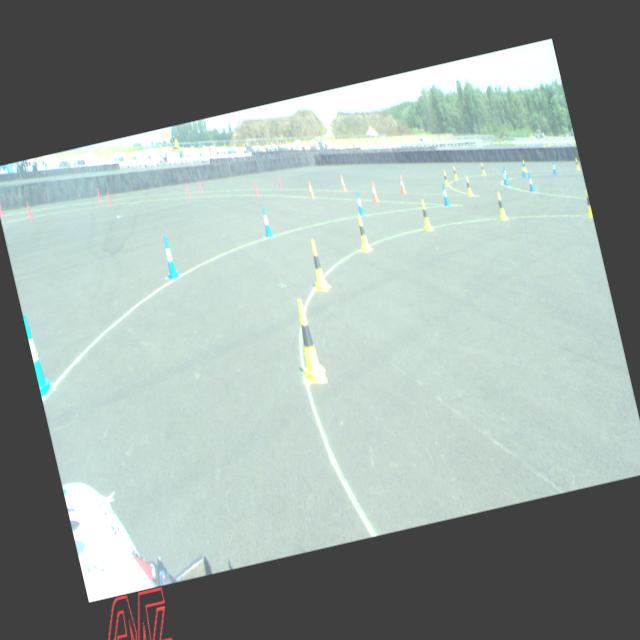blue_cone: (22, 312, 54, 396), (158, 233, 179, 280), (259, 205, 273, 238), (354, 190, 364, 216), (440, 182, 450, 206), (526, 172, 534, 192), (501, 169, 508, 186), (502, 164, 508, 180), (550, 160, 556, 174), (520, 162, 526, 176)
orange_cone: (369, 180, 379, 202), (397, 174, 406, 194), (306, 180, 315, 200), (338, 173, 346, 191)
yellow_cone: (288, 296, 327, 384), (305, 238, 329, 292), (354, 212, 371, 252), (417, 198, 432, 231), (494, 191, 508, 221), (582, 188, 592, 216), (463, 176, 473, 196), (572, 156, 580, 170), (451, 164, 458, 180), (442, 170, 448, 186), (480, 162, 486, 174), (522, 158, 527, 172)
